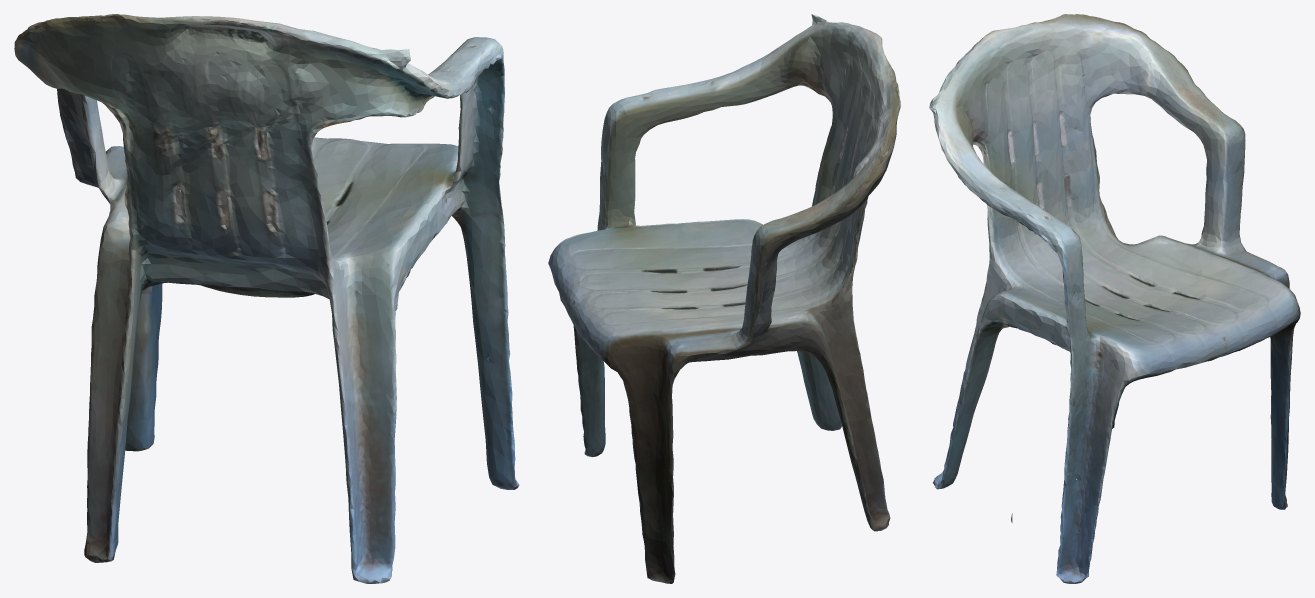
File: 1772608227_Monoblock.glb
The picture shows the model from 3 angles, left to right: view 1: azimuth 30°, elevation 25°; view 2: azimuth 150°, elevation 25°; view 3: azimuth 270°, elevation 25°; orthographic projection. The views are drawn at different scales.
Bounding box in the file's own units: 0.5355 × 0.6799 × 0.5213.
Materials: 1 (1 with a texture image).
